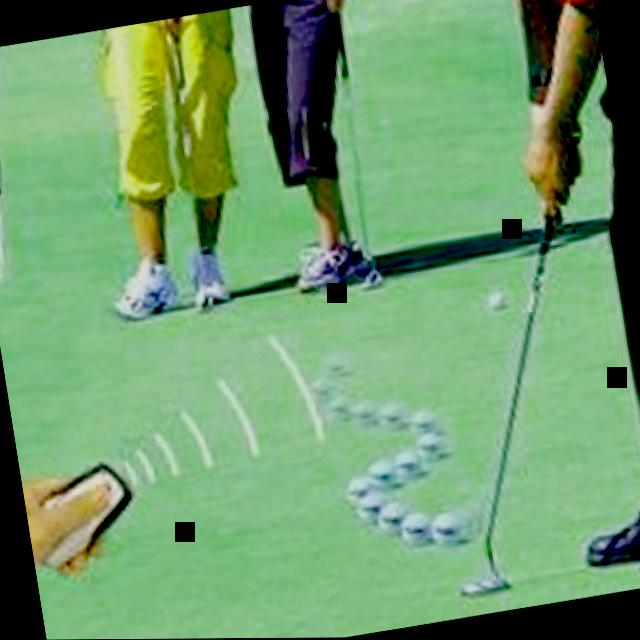golf ball: (478, 272, 517, 321)
